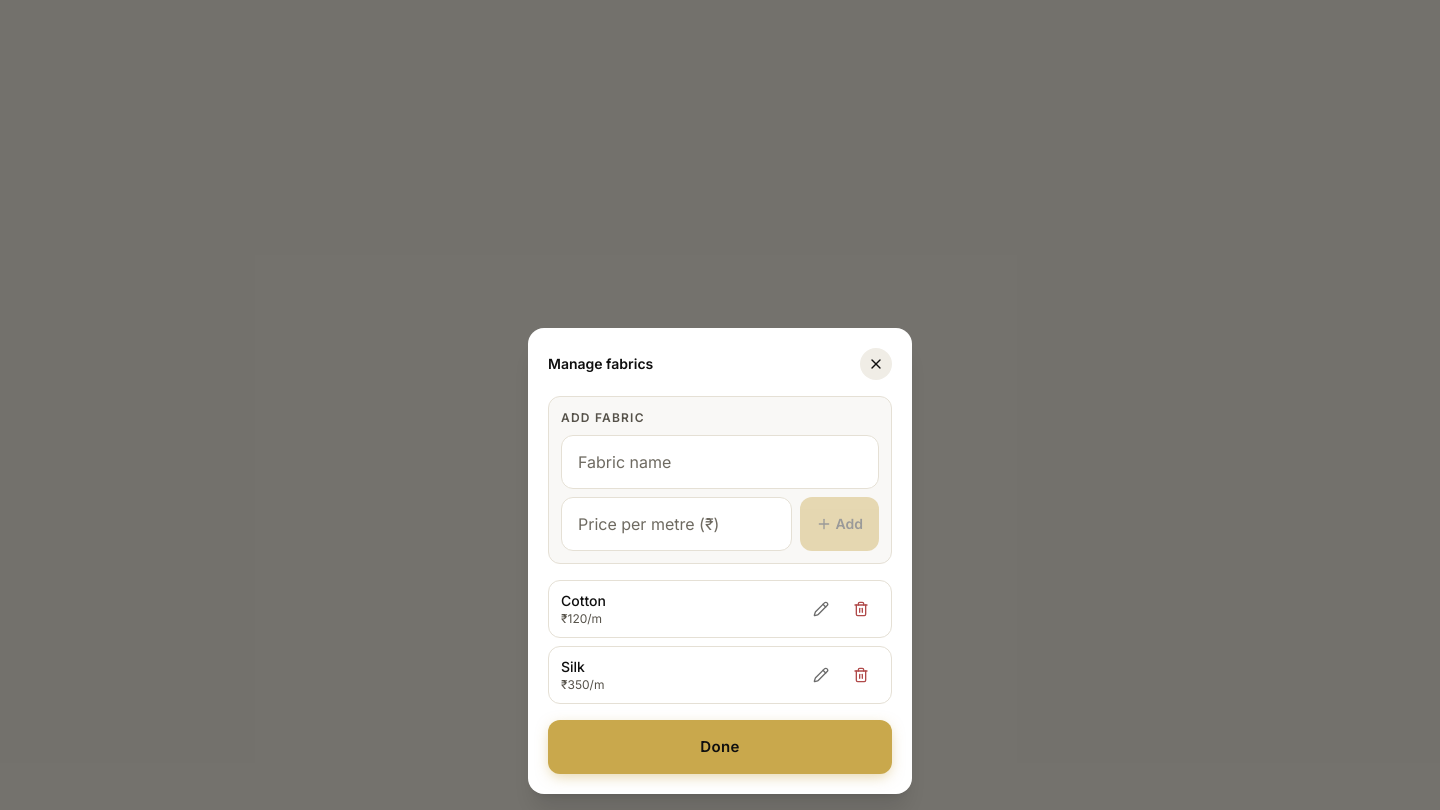
Test case: FabricManagerSheet › shows the server error when an edit fails
Step 1. Click the button named "Edit Silk" → [821, 674], box [803, 656, 839, 692]
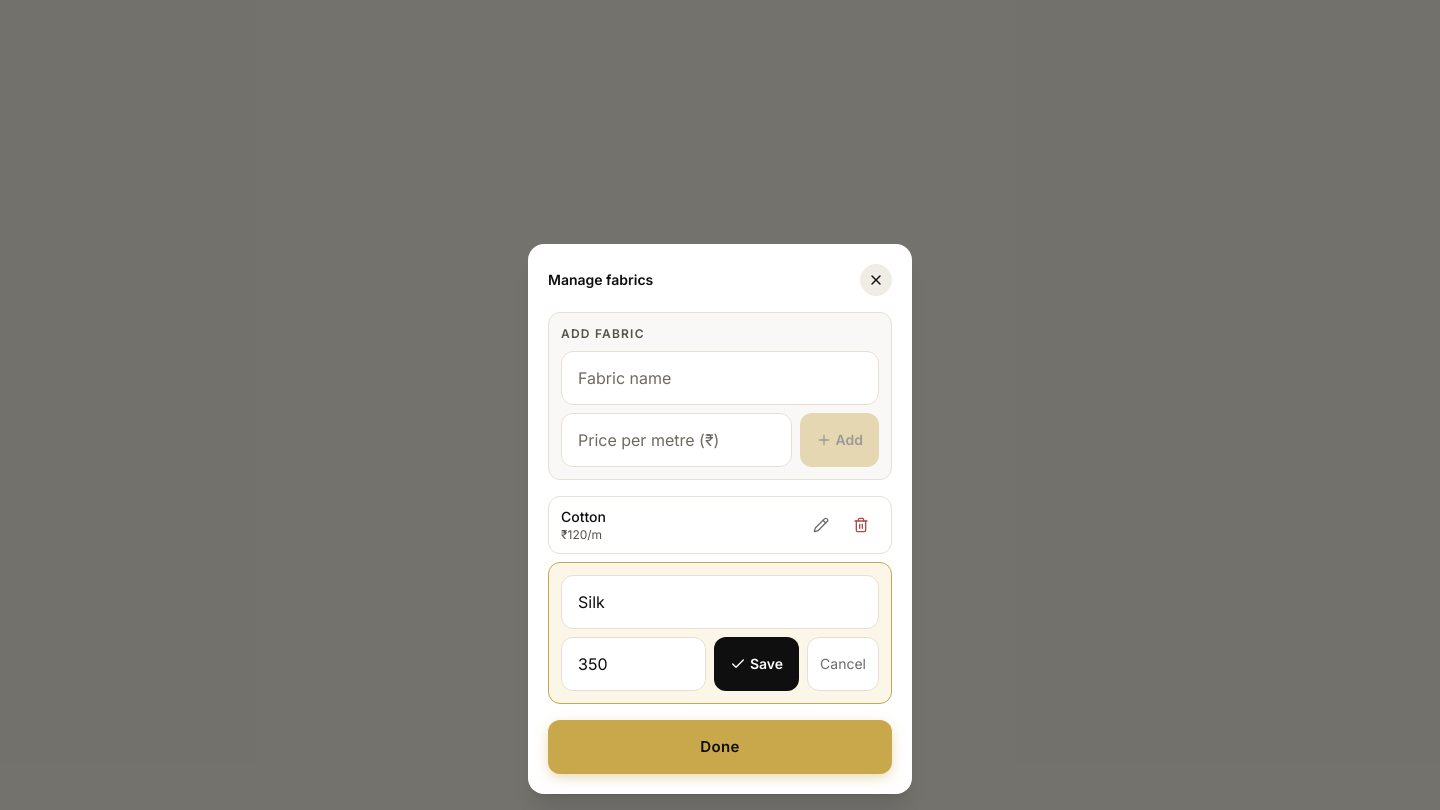
Step 2. Click the button with aria-label "Save Silk" → [756, 664], box [714, 636, 799, 690]
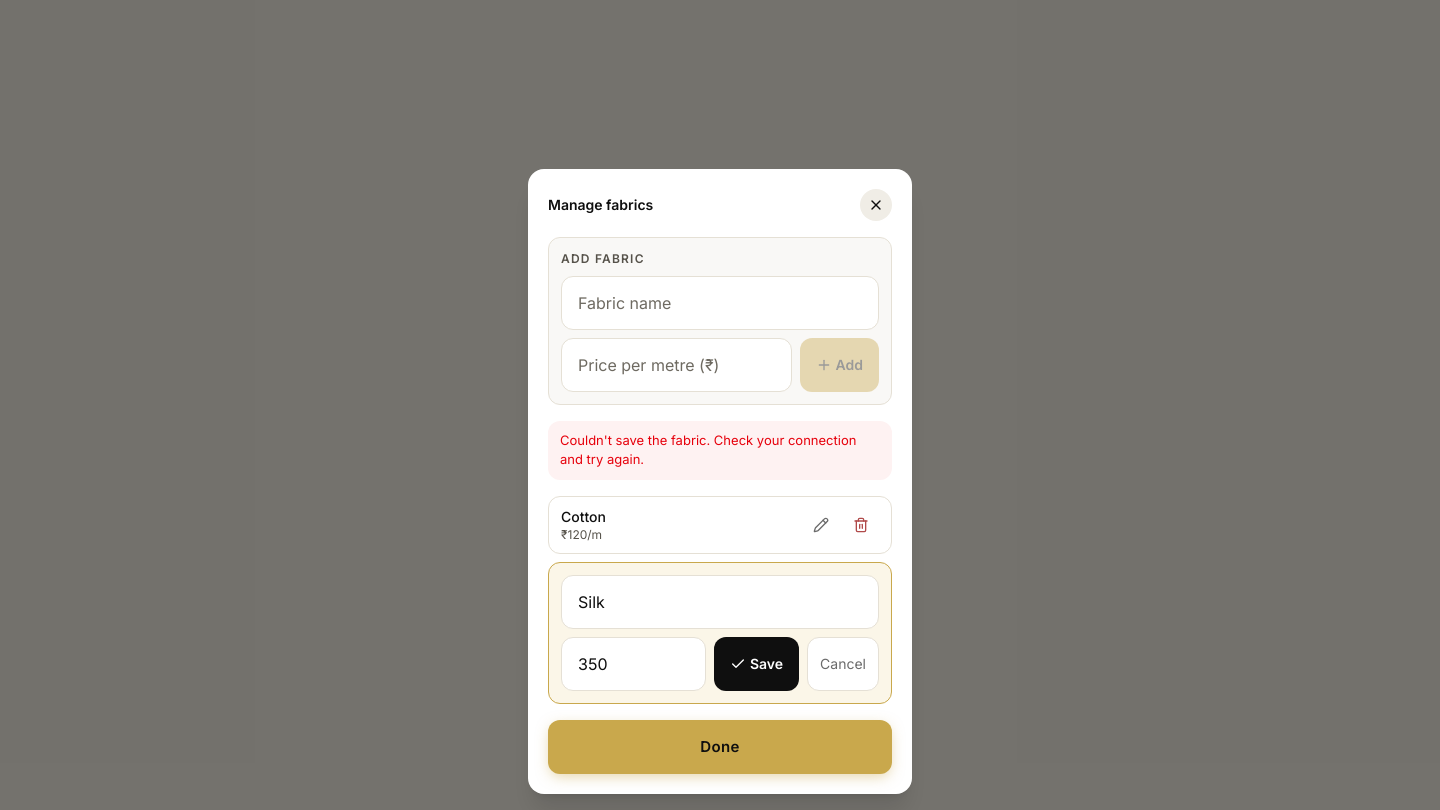
Result: the message shows "Couldn't save the fabric" at [560, 432, 856, 467]
